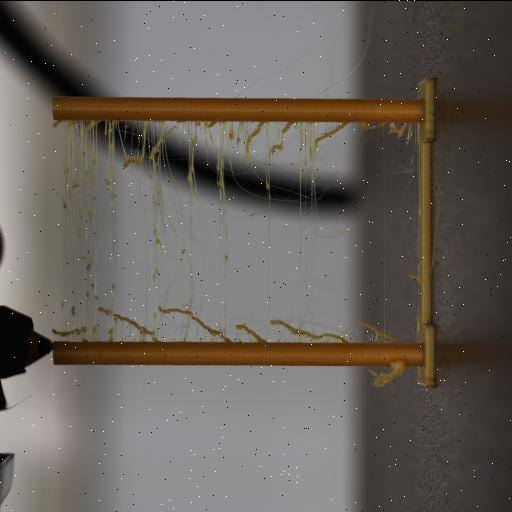stringing: (48, 119, 354, 343)
